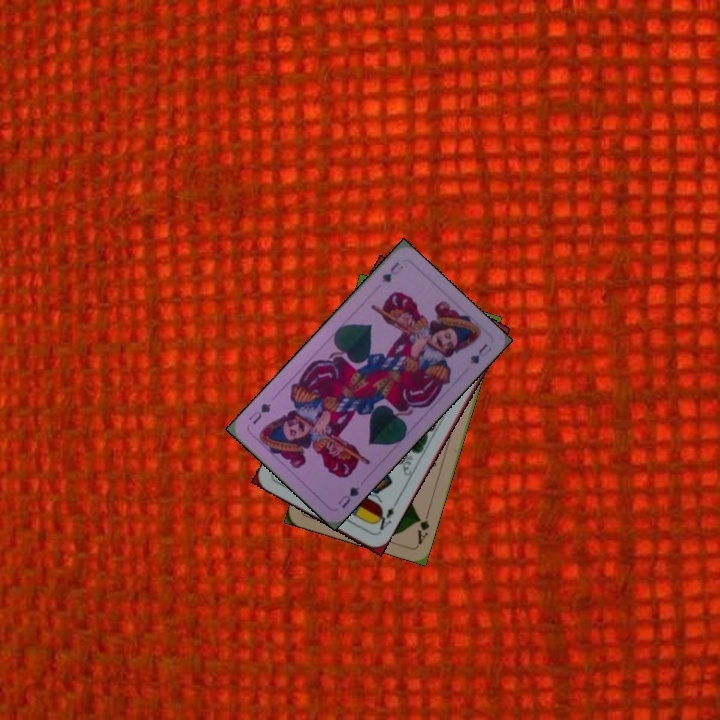EA: (371, 503, 397, 536)
GA: (413, 507, 432, 547)
GU: (334, 482, 363, 511), (377, 257, 406, 285)
